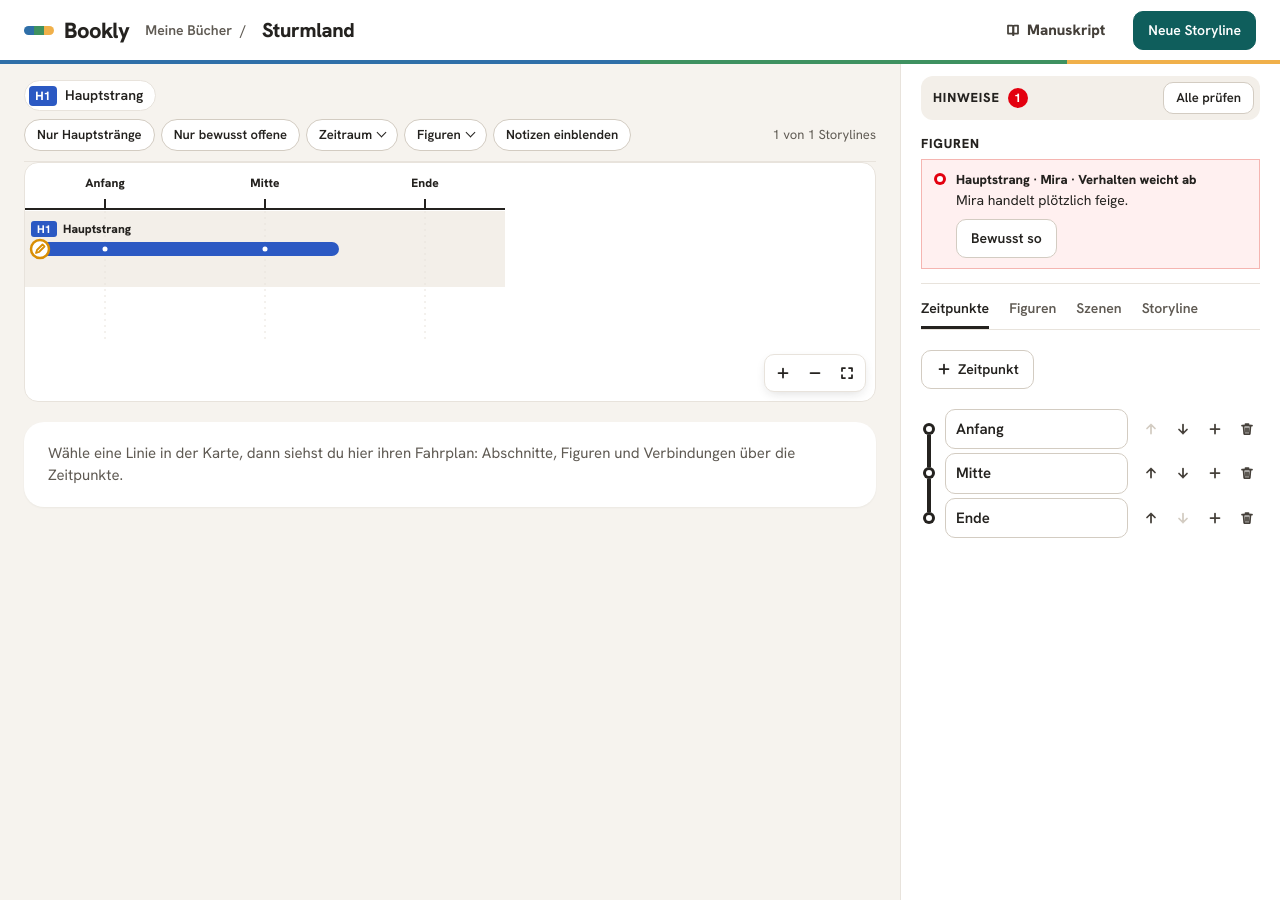
Scenario: BookHints – Figuren › shows the save failure alert when acknowledging fails
This screenshot has width=1280, height=900.
Click the button "Bewusst so" at (1006, 238), box [956,218,1057,258]
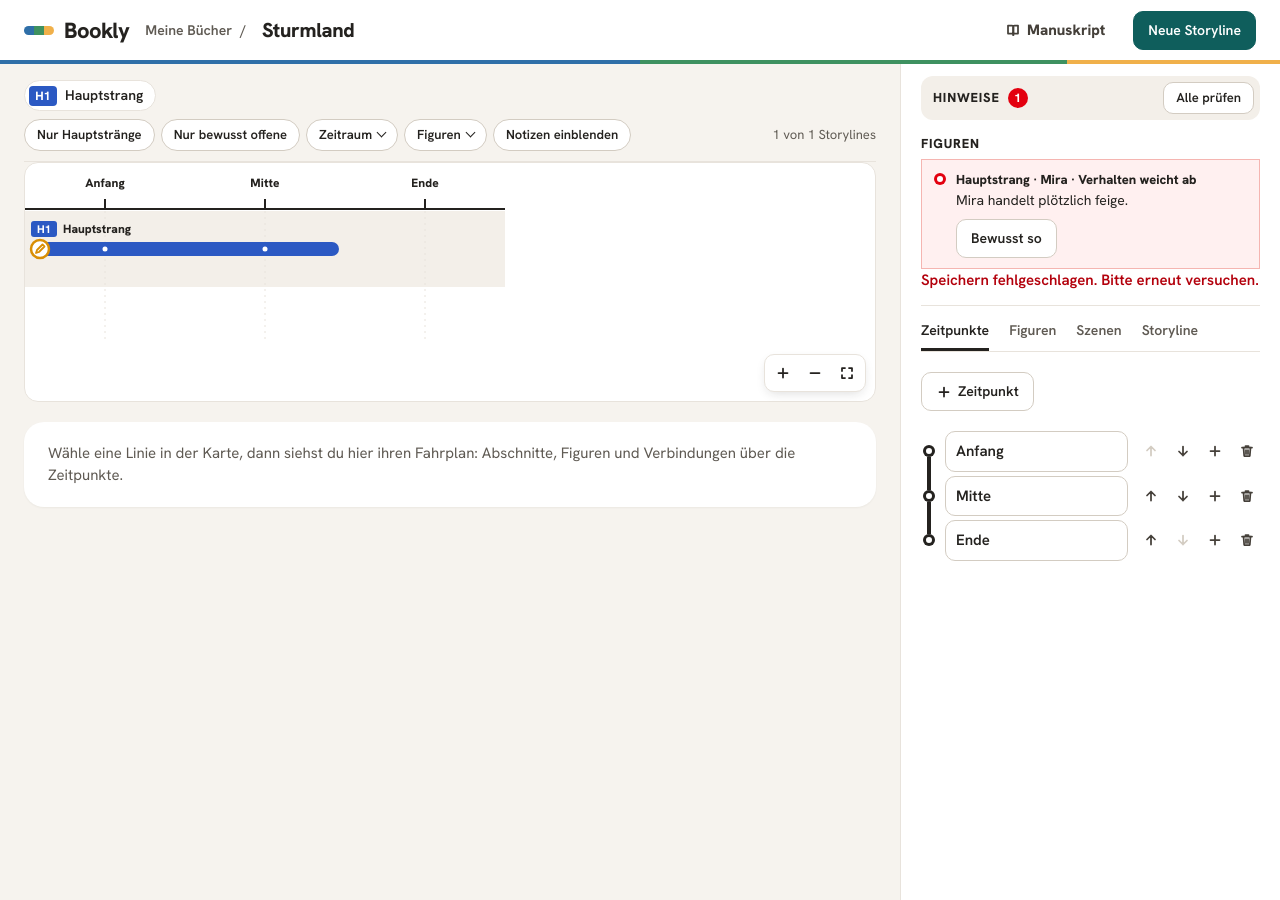
Expected: the message reads "Speichern fehlgeschlagen. Bitte erneut versuchen.", [921,270,1259,290]
